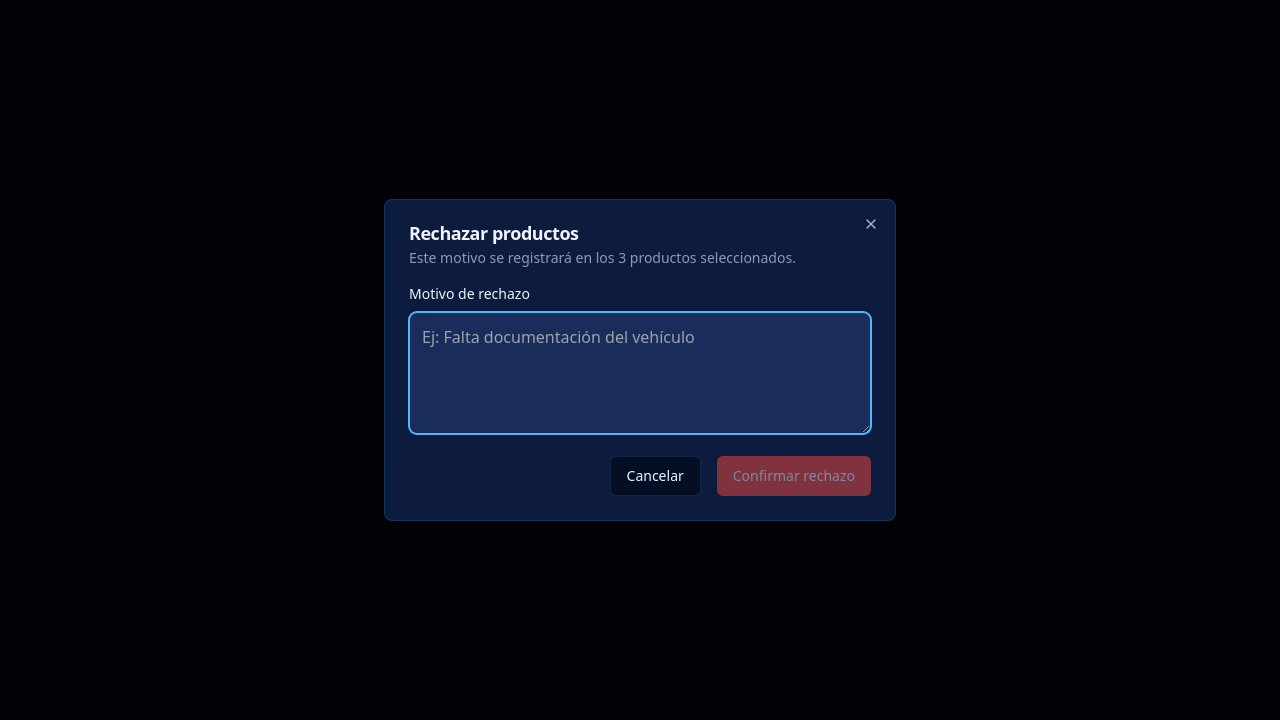
Test: RejectConfirmDialog › confirm button is enabled when reason has text
Type "Falta documentación" into the text box labelled "Motivo de rechazo" at (640, 373), box [409,312,871,434]
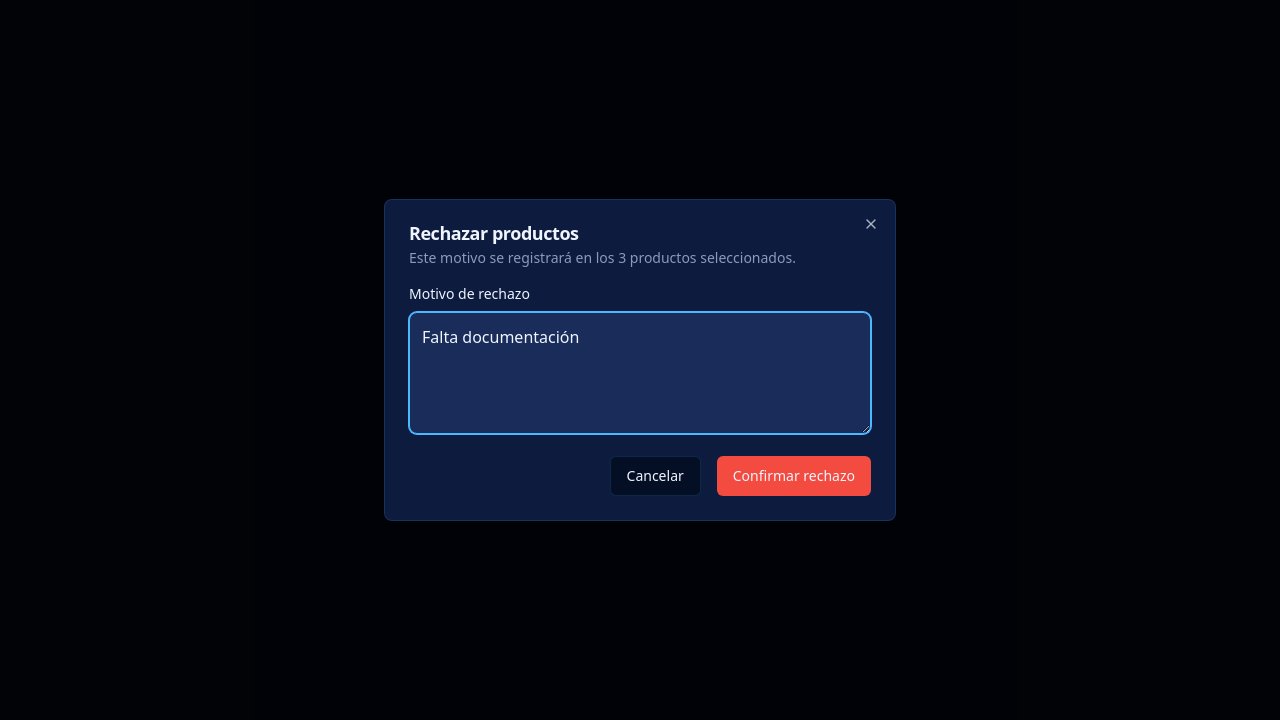
Expected: the button "Confirmar rechazo" is enabled, [717,456,871,496]
